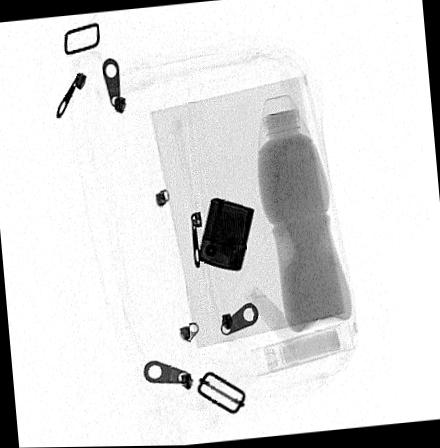Lighter: (196, 198, 254, 272)
